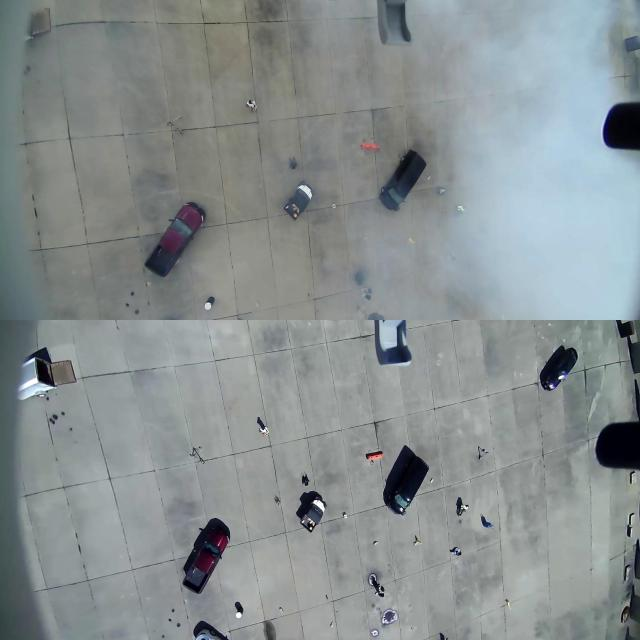car: (140, 195, 205, 286), (371, 140, 432, 222), (181, 512, 230, 593), (382, 442, 428, 514), (540, 342, 577, 391)
